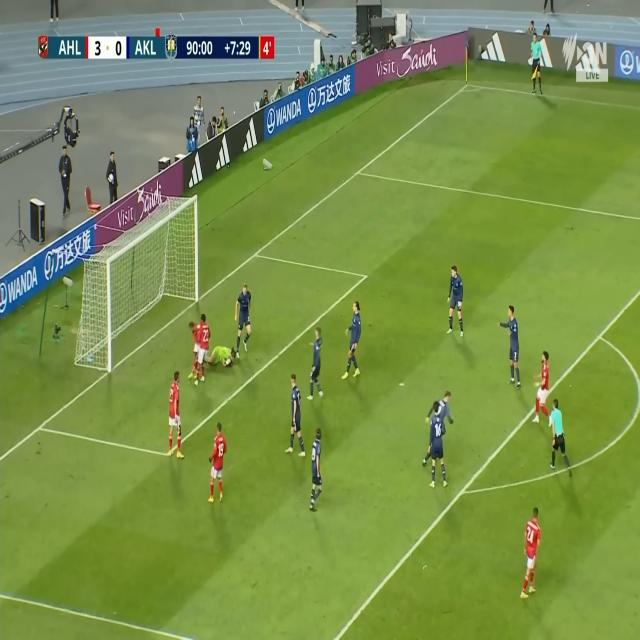Ball: (226, 356, 230, 366)
Keeper: (201, 345, 238, 366)
Player: (519, 502, 541, 599), (498, 305, 523, 389), (424, 392, 452, 464), (167, 371, 187, 462), (207, 422, 227, 505), (287, 376, 307, 457), (430, 404, 448, 487), (342, 301, 361, 378), (534, 350, 552, 430), (447, 264, 464, 338), (235, 286, 252, 358), (308, 331, 325, 401), (310, 428, 323, 514), (188, 319, 202, 379), (196, 314, 206, 386)
Ref: (551, 397, 573, 478), (529, 33, 542, 97)
